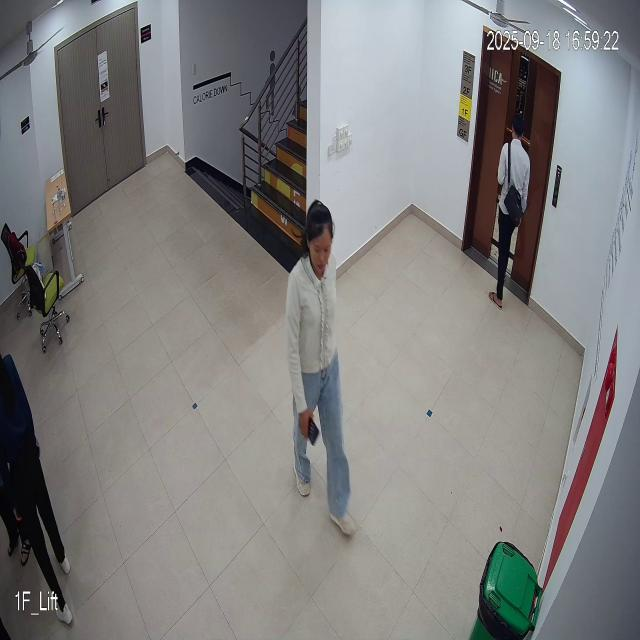face: (300, 204, 340, 279)
